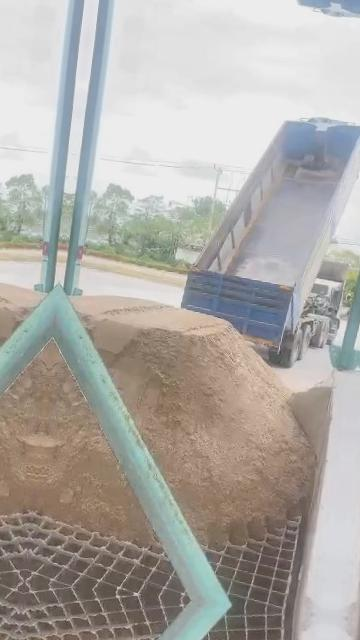sand: (73, 297, 313, 545), (32, 345, 152, 543), (290, 377, 332, 467)
